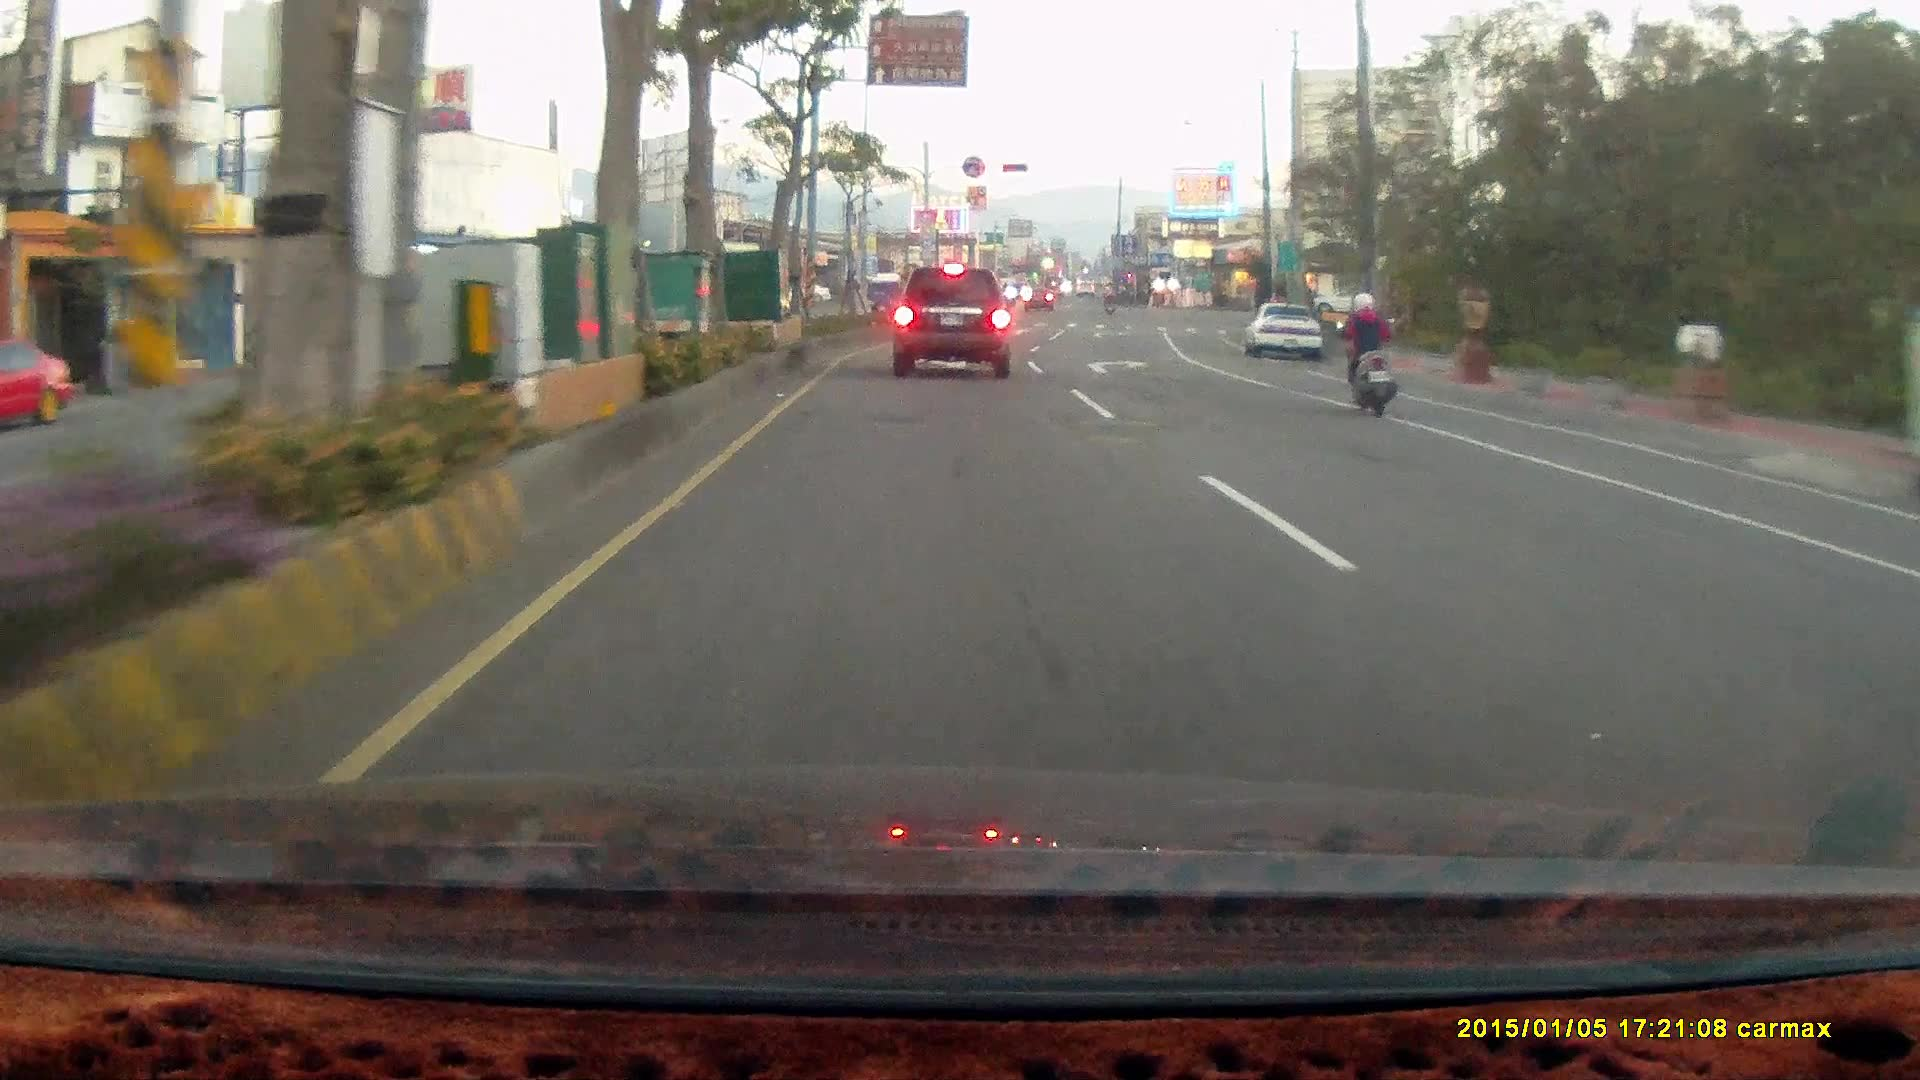rider: (1333, 293, 1397, 421)
vehicle: (889, 265, 1008, 379), (1896, 493, 1920, 836), (1, 337, 76, 435), (1883, 528, 1920, 690), (1240, 299, 1322, 361), (1248, 305, 1324, 361), (1303, 278, 1378, 314)
